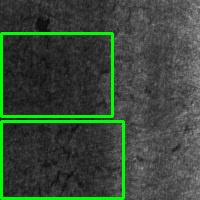crazing: (1, 121, 123, 198), (1, 33, 112, 116)
